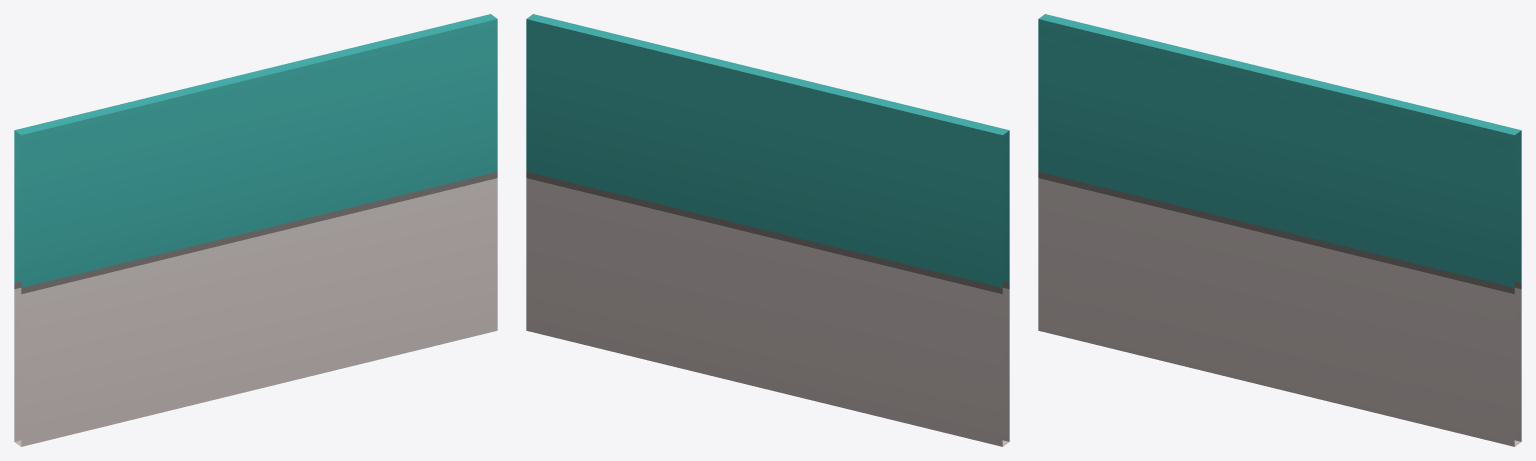
File: Wall_4m.fbx
3 renders of one model, left to right at view 1: azimuth 30°, elevation 25°; view 2: azimuth 150°, elevation 25°; view 3: azimuth 330°, elevation 25°, orthographic.
Parts seen in each view (by area): view 1: Wall4m; view 2: Wall4m; view 3: Wall4m.
Boxes of the visible parts, box(x1,y1,x2,y2) form: Wall4m: box(14, 14, 497, 446); Wall4m: box(526, 14, 1009, 446); Wall4m: box(1038, 14, 1521, 446).
Bounding box in the file's own units: 4 × 2.5 × 0.1.
